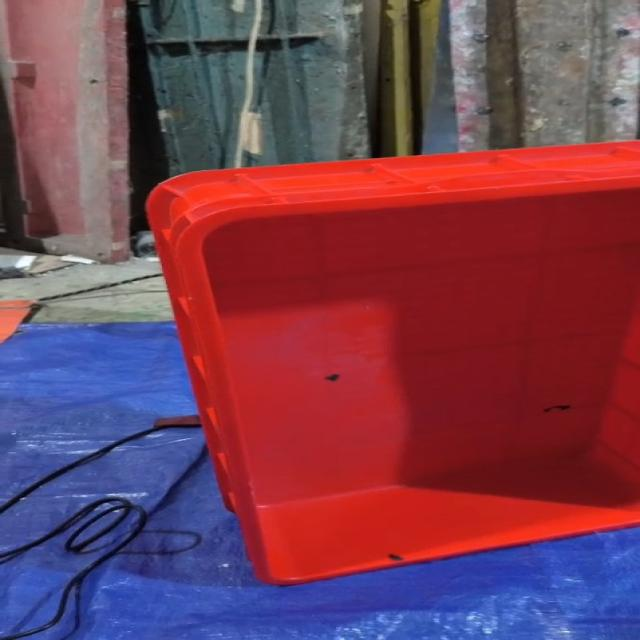red plastic box: (146, 139, 639, 586)
